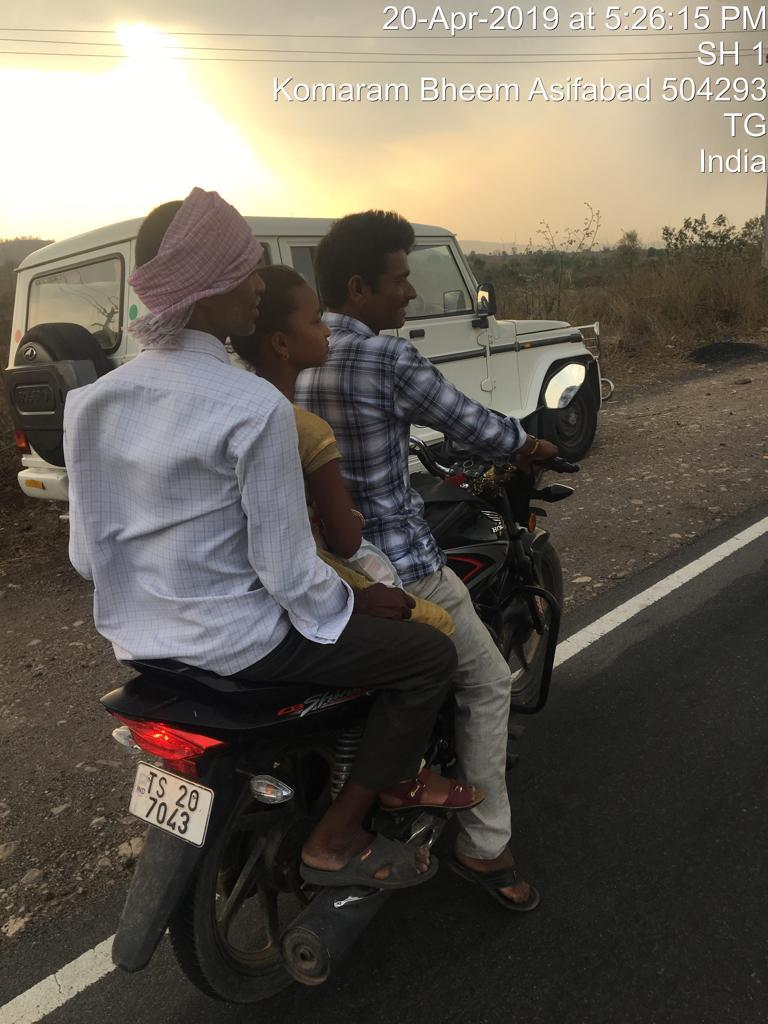plate: (105, 743, 235, 871)
